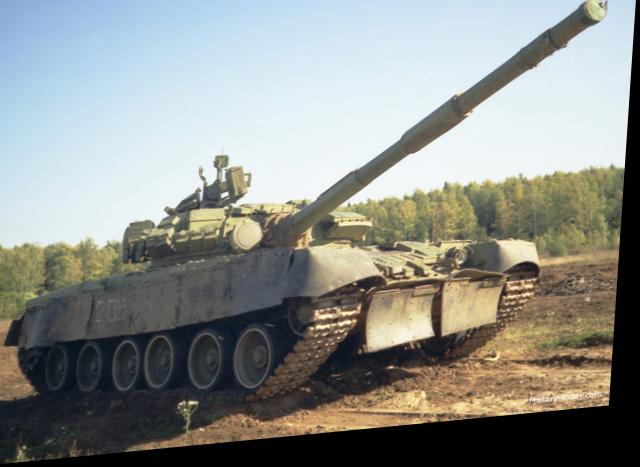tank: (19, 172, 536, 403)
